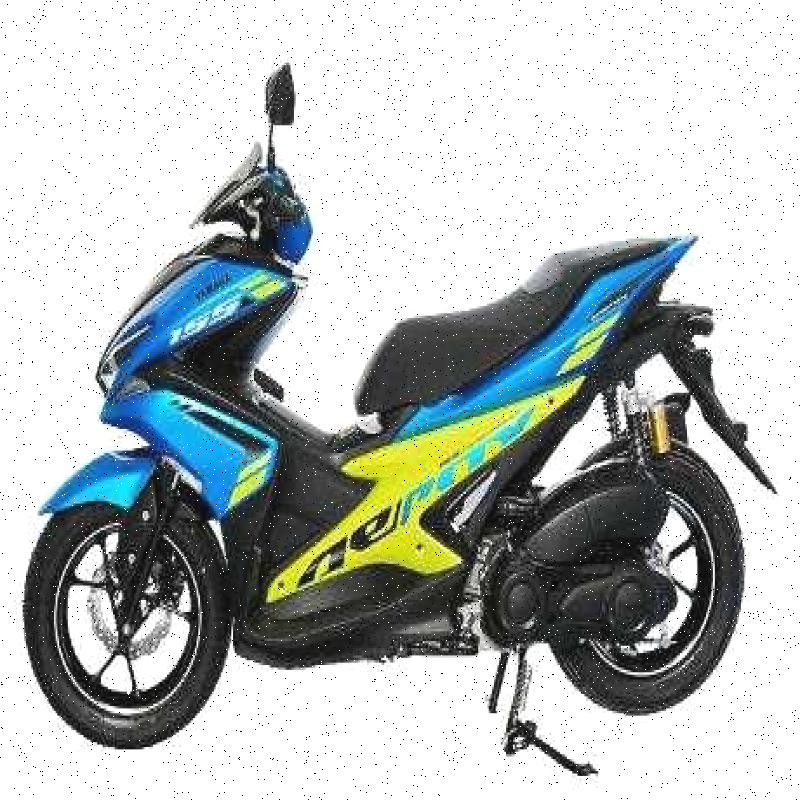bike: (27, 53, 790, 771)
